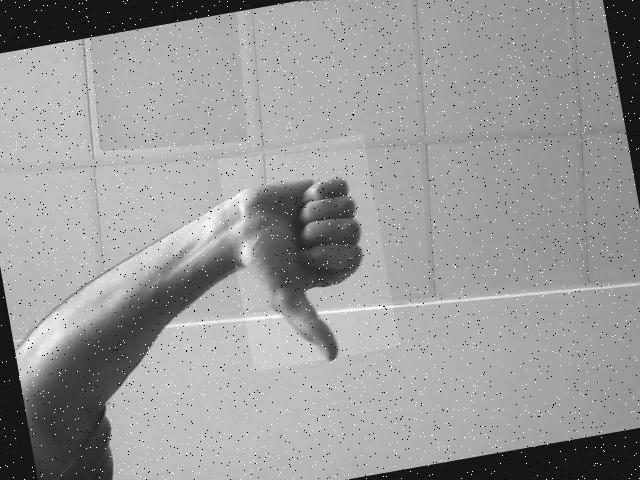bad: (216, 133, 400, 372)
